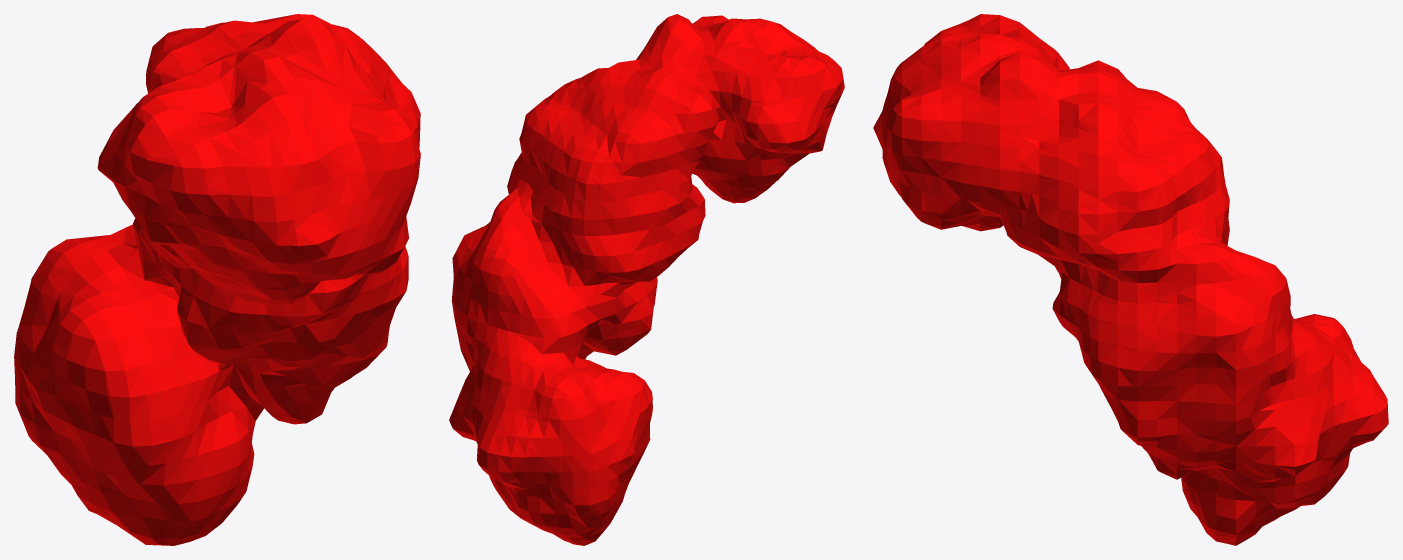
File: murG_coarse.dae
3 renders of one model, left to right at view 1: azimuth 30°, elevation 25°; view 2: azimuth 150°, elevation 25°; view 3: azimuth 270°, elevation 25°, orthographic. The views are drawn at different scales.
Parts seen in each view (by area): view 1: murG; view 2: murG; view 3: murG.
Part boxes in pixels (box(x1,y1,x2,y2)): murG: box(14, 14, 420, 545); murG: box(449, 14, 844, 545); murG: box(873, 14, 1388, 545).
Bounding box in the file's own units: 65.6 × 103 × 99.09.
